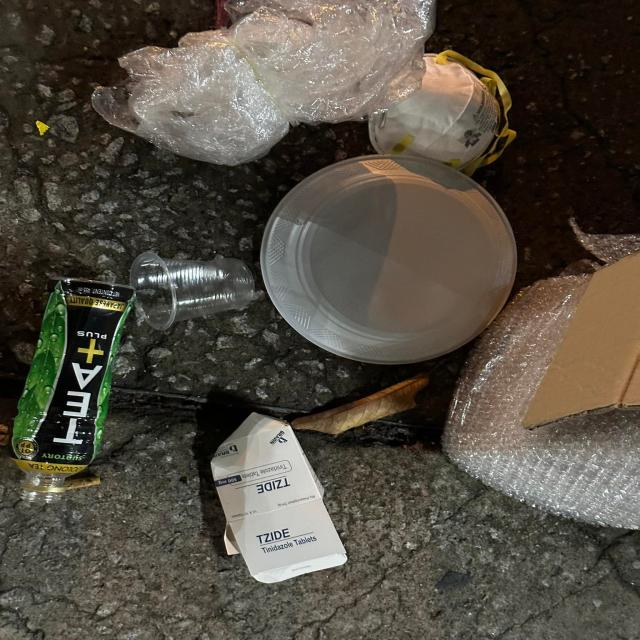bag: (93, 0, 434, 167)
bottle: (12, 278, 136, 506)
cardboard box: (212, 410, 350, 582)
mask: (368, 50, 516, 176)
plastic glass: (132, 252, 256, 328)
plastic holder: (260, 152, 518, 366)
